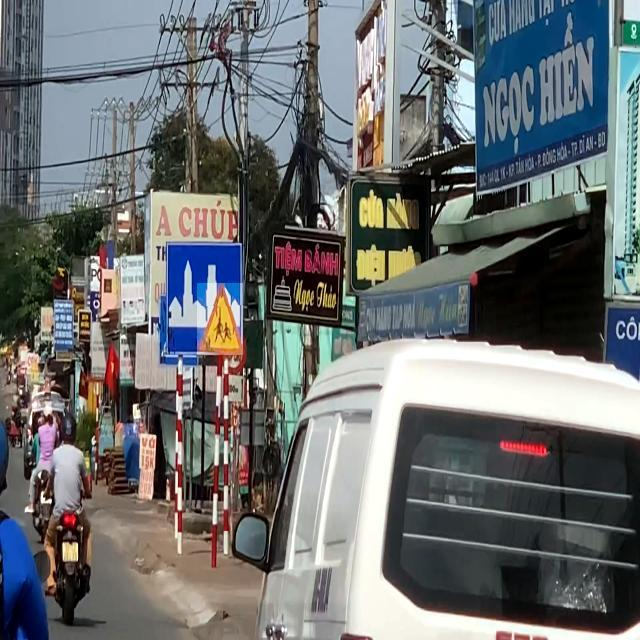W-225: (197, 283, 243, 355)
